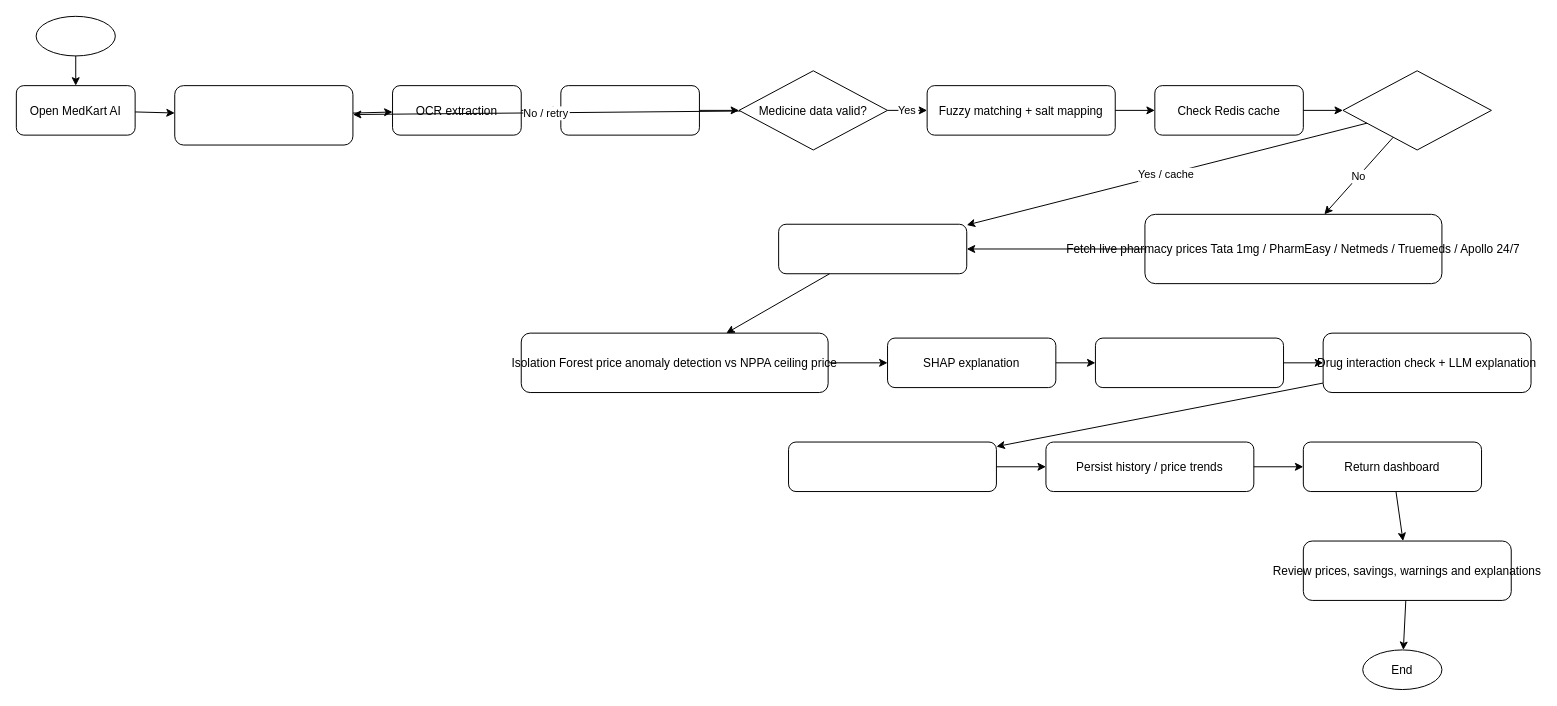
The diagram is 1557 pixels wide and 706 high, and some of its shapes have lost their labels. Each missing label, with the centre of its shape:
"Fresh cached prices?" belongs at (x=1416, y=110).
"Generic substitute ranking" belongs at (x=1189, y=362).
"LLM structuring" belongs at (x=629, y=110).
"Normalize pharmacy data" belongs at (x=872, y=248).
"Rank options + calculate savings" belongs at (x=892, y=466).
"Start" belongs at (x=75, y=35).
"Upload prescription OR enter medicine name" belongs at (x=263, y=115).
